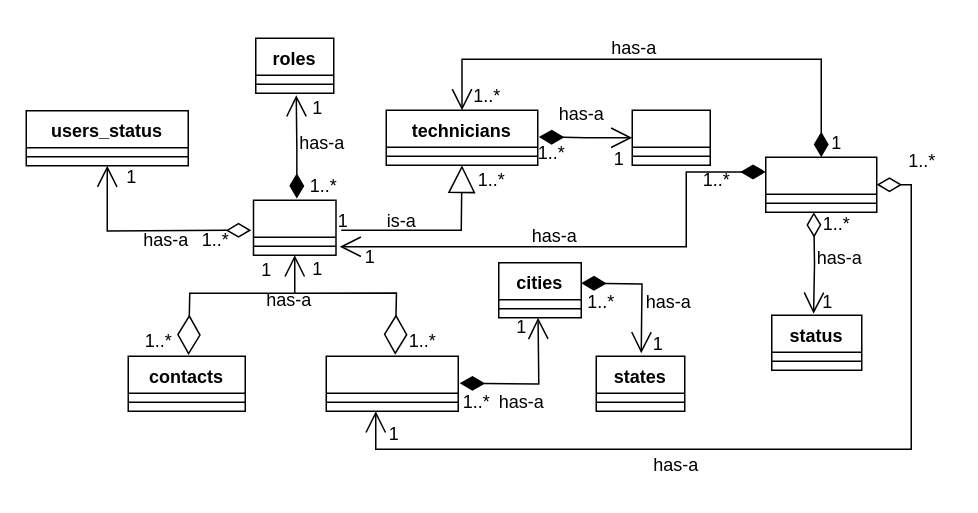
Image size: 978x513. Some labels were removed from this diagram. The shapes that lost their labels are listed below. From the top down, each one's centre as x and y in pixels, then its label:
At point 670,137: "skills".
At point 820,184: "booking".
At point 294,227: "users".
At point 391,383: "addresses".
